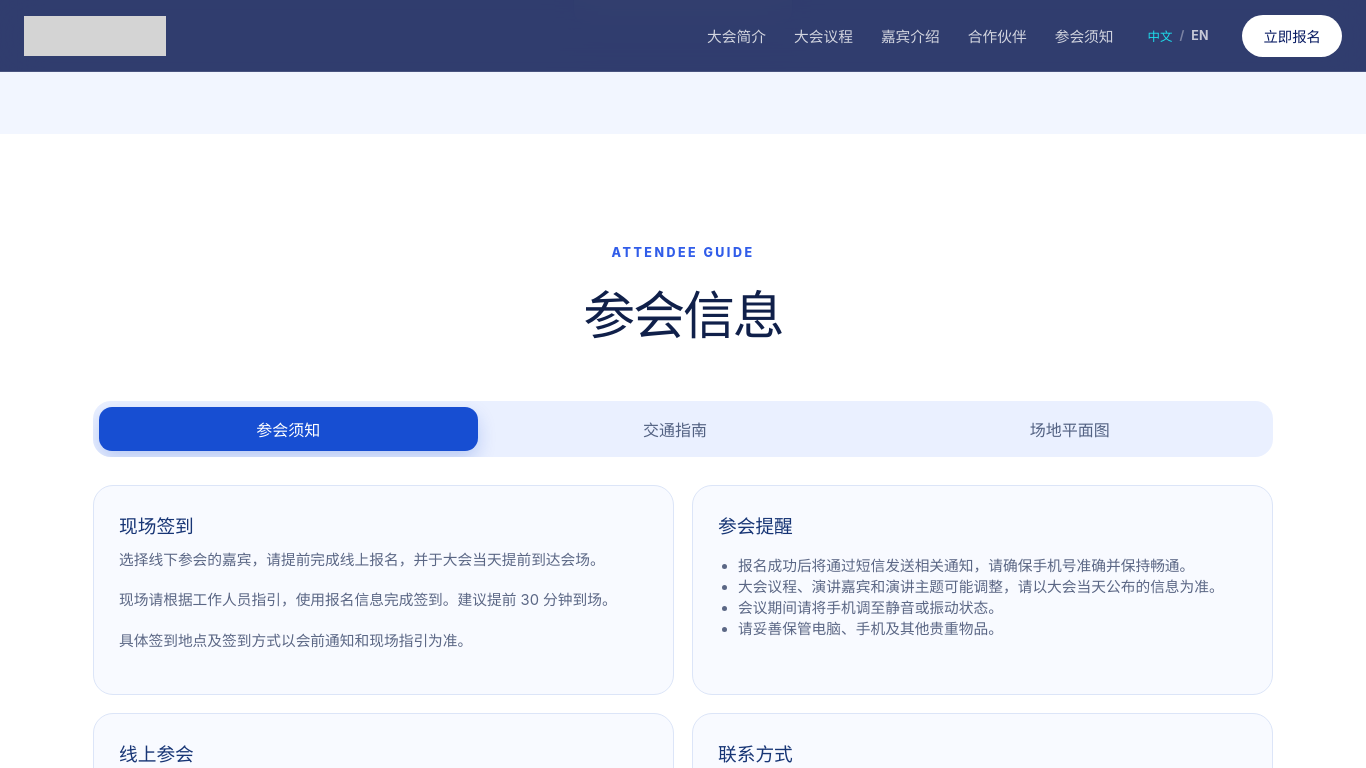
Test: 大会官网 › 交通指南说明线下参会可免费停车并需领取停车券
(page scrolled)
Step 1. Click the tab "交通指南" → (675, 429), box left=486, top=407, right=864, bottom=451
(page scrolled)
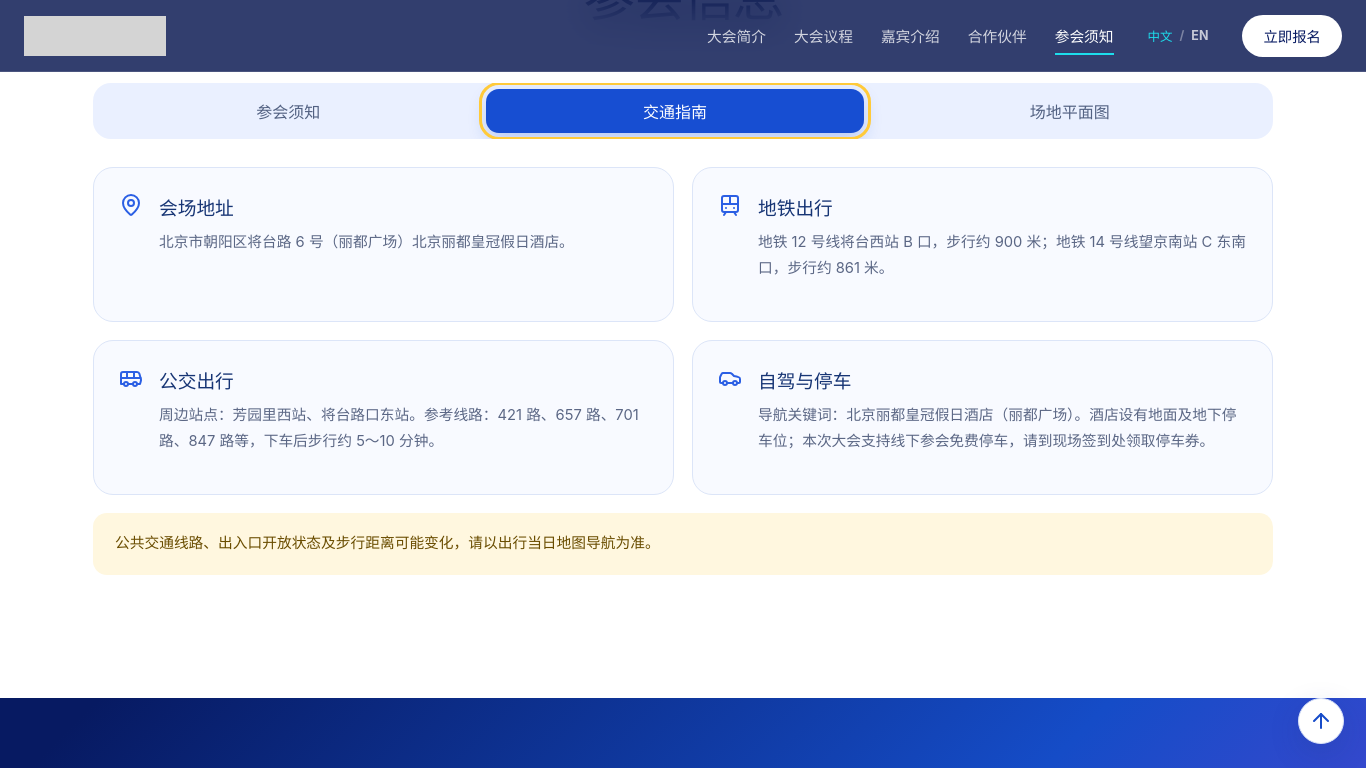
Check: the text "本次大会支持线下参会免费停车，请到现场签到处领取停车券" is shown, box left=758, top=406, right=1236, bottom=450
